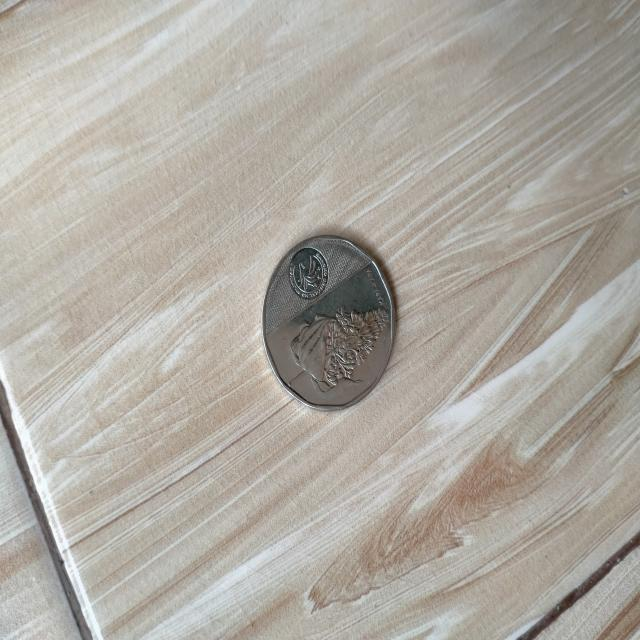10_New_Back: (282, 297, 392, 402)
